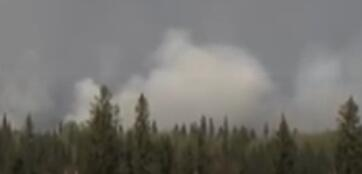yanwu: (1, 27, 361, 128)
